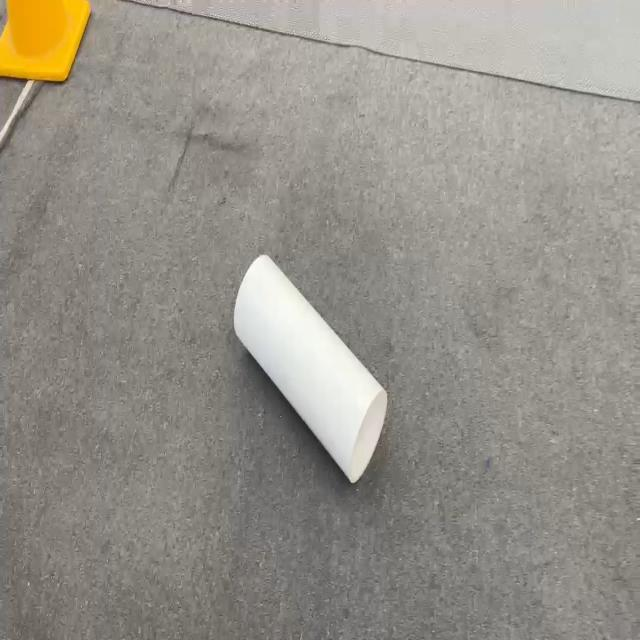coral: (232, 252, 388, 484)
